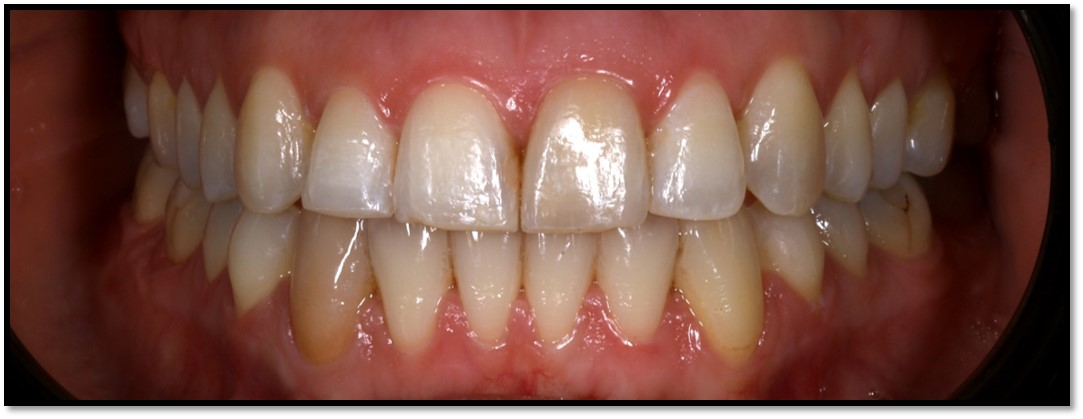LL1BC_healthy: (763, 215, 823, 300)
LL1M_sdecay: (872, 196, 933, 257)
LL2BC_mdecay: (826, 210, 869, 278)
LLCI_healthy: (525, 234, 593, 344)
LLC_mdecay: (676, 222, 763, 361)
LLLI_healthy: (600, 229, 674, 335)
LR1BC_healthy: (230, 216, 286, 307)
LR1M_sdecay: (165, 191, 199, 259)
LR2BC_healthy: (204, 210, 227, 278)
LR2M_sdecay: (130, 172, 166, 222)
LRCI_healty: (453, 236, 519, 341)
LRC_mdecay: (294, 221, 369, 357)
LRLI_mdecay: (373, 224, 451, 345)
UL1BC_healthy: (831, 79, 870, 199)
UL1M_mdecay: (907, 77, 953, 175)
UL2BC_healthy: (873, 88, 904, 189)
ULCI_healthy: (523, 81, 642, 227)
ULC_healthy: (748, 73, 824, 210)
ULLI_healthy: (654, 78, 746, 220)
UR1BC_healthy: (200, 82, 233, 200)
UR1M_mdecay: (148, 81, 176, 166)
UR2BC_healthy: (179, 80, 200, 188)
UR2M_healthy: (126, 67, 143, 138)
URCI_healty: (395, 85, 519, 231)
URC_healthy: (239, 72, 304, 213)
URLI_healthy: (308, 92, 393, 218)
